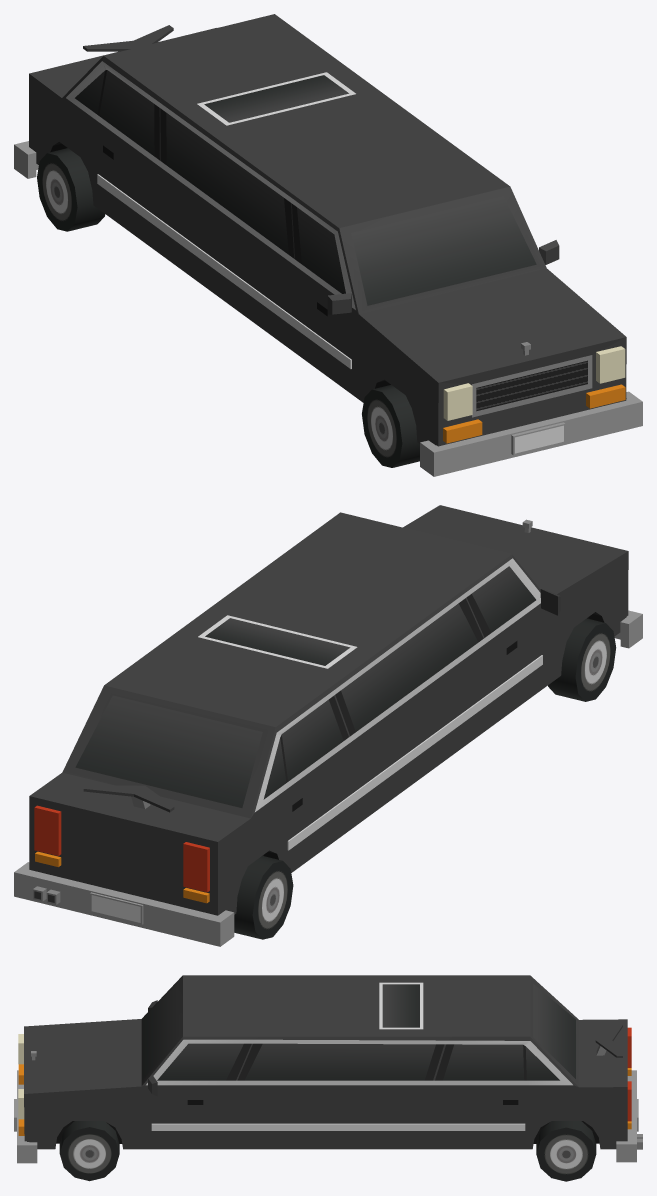
The model's file is Limo.fbx.
The picture shows the model from 3 angles, top to bottom: view 1: azimuth 30°, elevation 25°; view 2: azimuth 150°, elevation 25°; view 3: azimuth 270°, elevation 25°; orthographic projection. The views are drawn at different scales.
Visible parts, largest first — view 1: Limo, TireBR, TireFR; view 2: Limo, TireBR, TireFR; view 3: Limo, TireBL, TireFL.
Boxes of the visible parts, x1=… form: Limo: x1=14, y1=14, x2=642, y2=476; TireBR: x1=37, y1=148, x2=105, y2=231; TireFR: x1=362, y1=385, x2=419, y2=467; Limo: x1=14, y1=505, x2=642, y2=946; TireBR: x1=234, y1=856, x2=293, y2=939; TireFR: x1=548, y1=618, x2=616, y2=701; Limo: x1=14, y1=975, x2=642, y2=1163; TireBL: x1=536, y1=1121, x2=596, y2=1181; TireFL: x1=59, y1=1121, x2=119, y2=1181.
Size of the model in its own units: 211 by 164 by 683.
